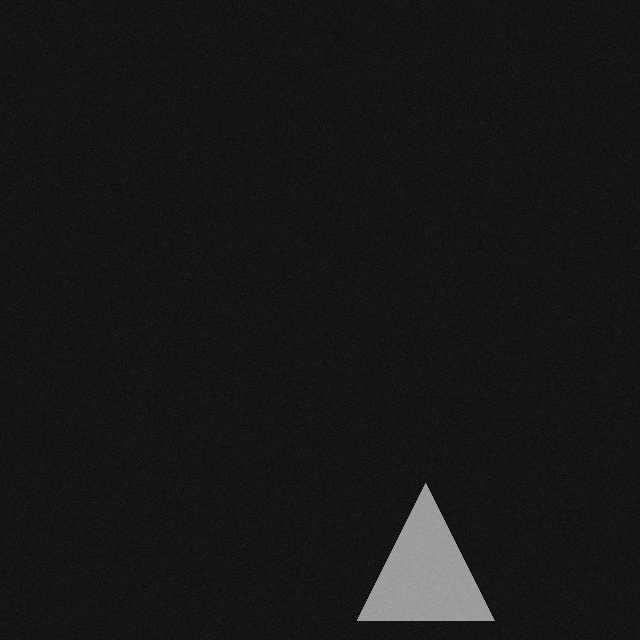triangle: (357, 485, 494, 622)
